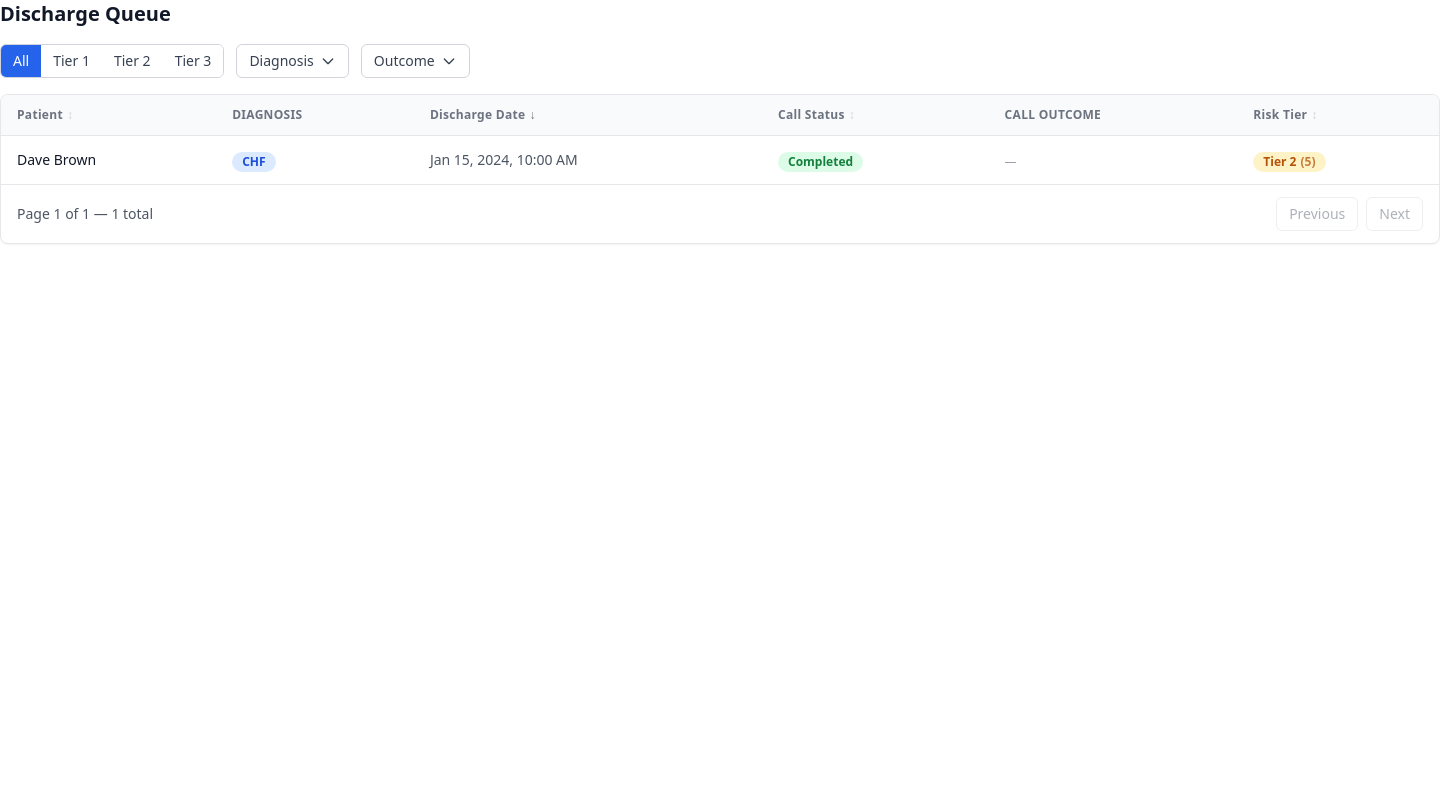
12.17 – Physician rows non-interactive; Admin/Nurse rows open drawer › Escape key closes the drawer
Expected: the text "Dave Brown" is shown, [1,136,216,184]
Click the text "Dave Brown" at (57, 160), box [1,136,1439,184]
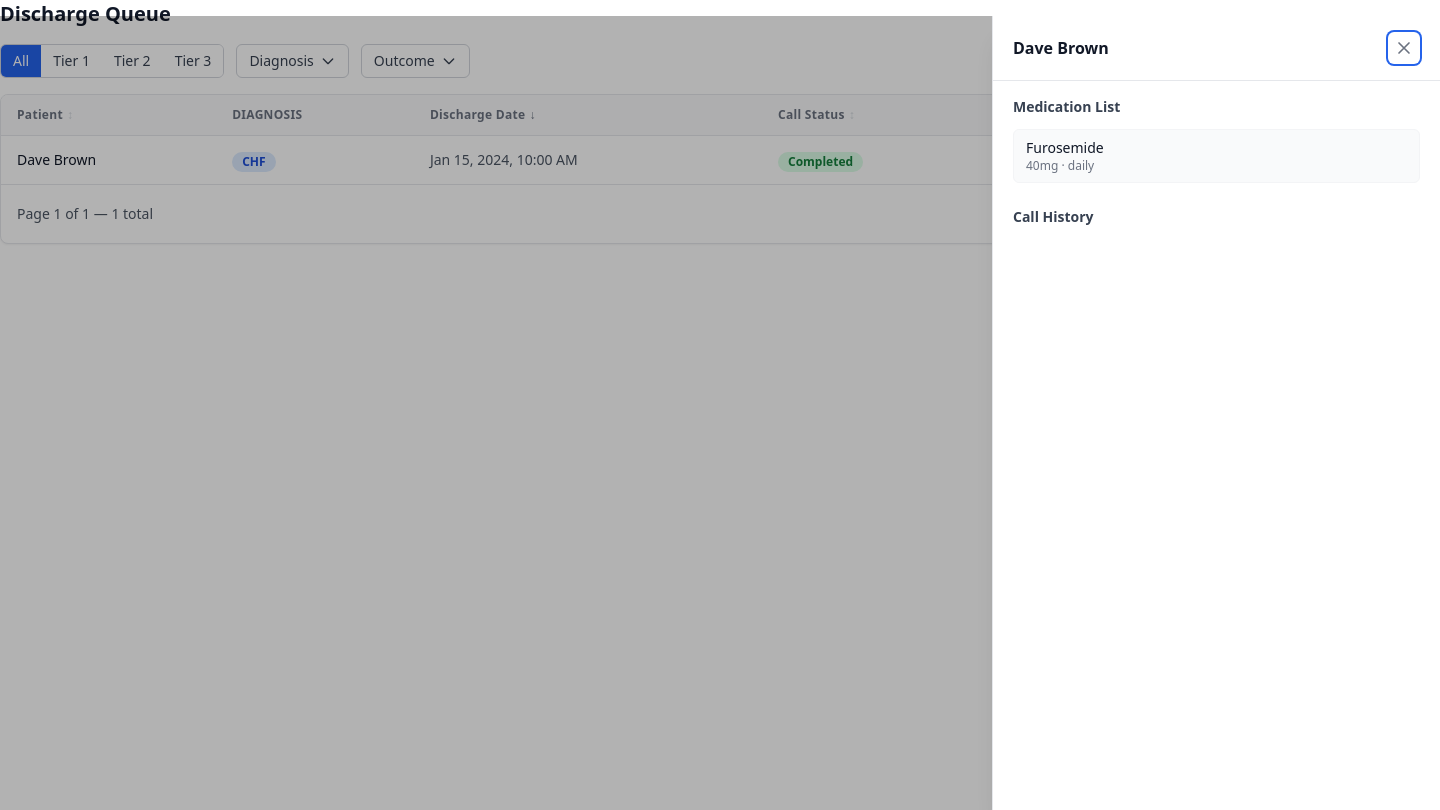
Now the dialog is shown, box [992,16,1439,809]
Press Escape
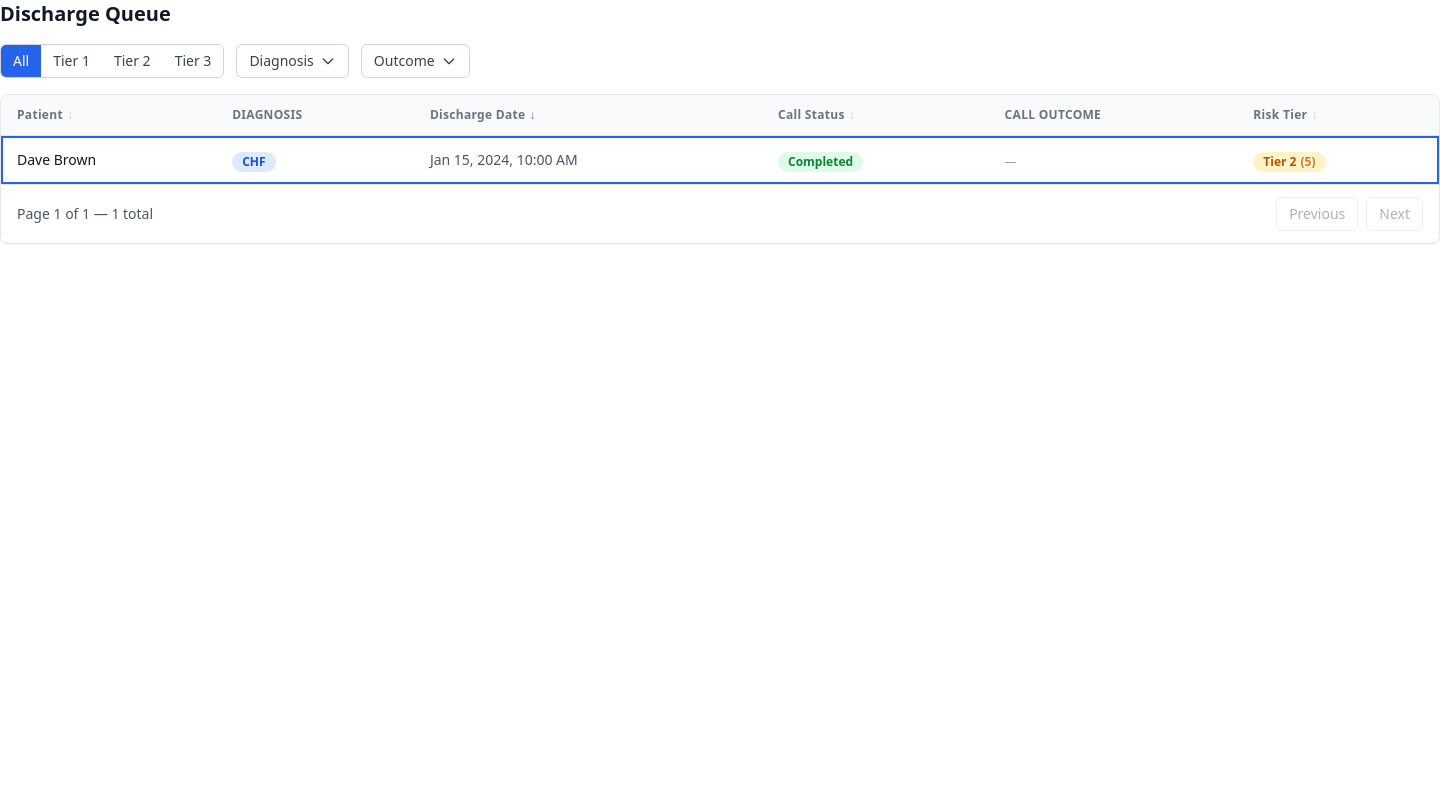
Now the dialog is gone
